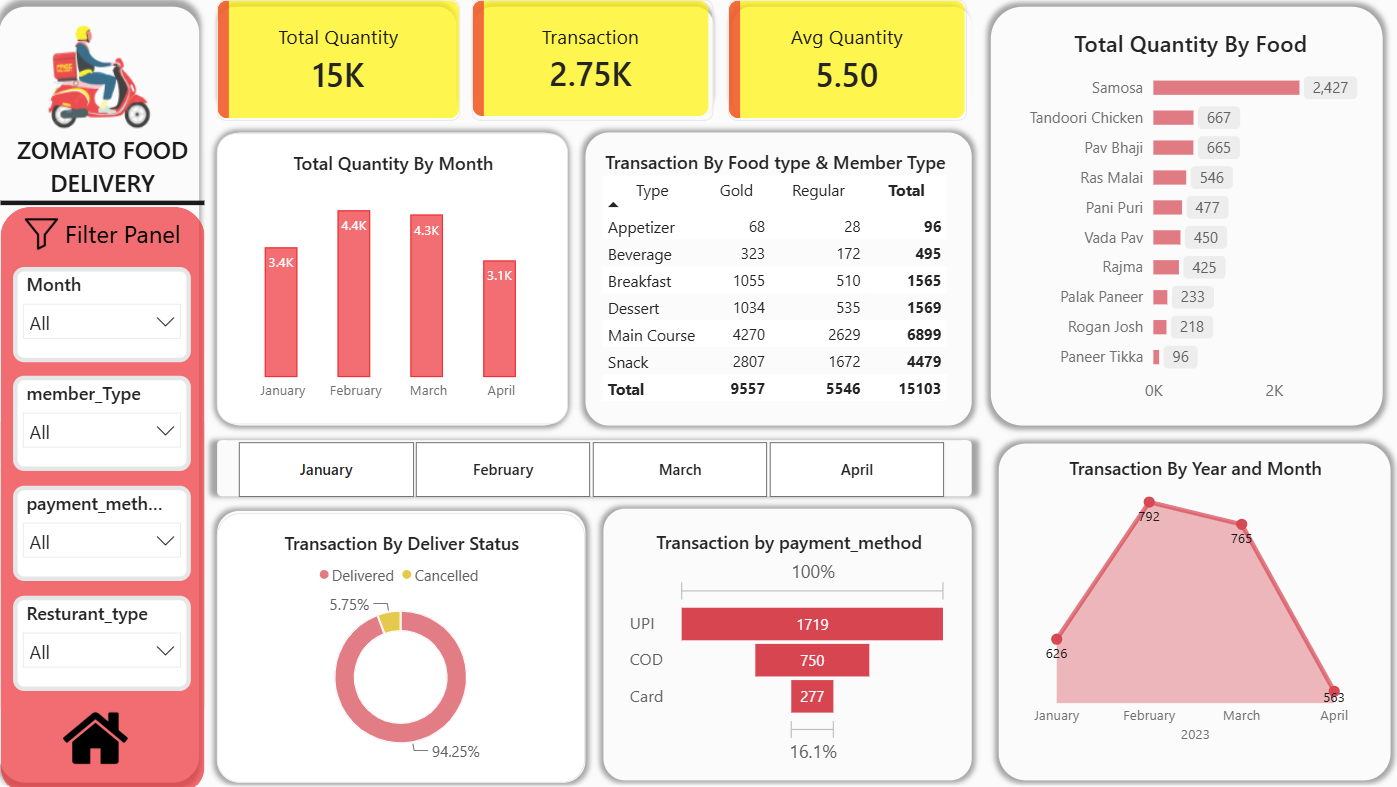

The page's visual inventory and layout, read from the dashboard file:
{"tool":"powerbi","page":{"name":"Page 1","canvas":[1280,720],"ordinal":0},"visuals":[{"type":"shape","title":"ZOMATO FOOD DELIVERY","box":[25.6,119.1,181.4,590],"z":0},{"type":"cardVisual","fields":{"Data":["Sales Data.Total Quantity"]},"box":[217.1,11.1,217.1,108],"z":1000},{"type":"cardVisual","fields":{"Data":["Sales Data.Transaction"]},"box":[444.2,11.1,214.8,108],"z":2000},{"type":"cardVisual","fields":{"Data":["Sales Data.Avg Quantity"]},"box":[672.4,11.1,212.6,108],"z":3000},{"type":"slicer","fields":{"Values":["Sales Data.orderDate.Variation.Date Hierarchy.Month"]},"box":[36.1,249.6,158.7,85.1],"z":4000},{"type":"slicer","fields":{"Values":["Customer Details.member_Type"]},"box":[36.1,346.3,158.7,85.1],"z":5000},{"type":"slicer","fields":{"Values":["Sales Data.payment_method"]},"box":[36.1,444.4,158.7,85.1],"z":6000},{"type":"slicer","fields":{"Values":["Resturant_Details.Resturant_type"]},"box":[36.1,542.5,158.7,85.1],"z":7000},{"type":"clusteredColumnChart","title":"Total Quantity By Month","fields":{"Category":["Sales Data.orderDate.Variation.Date Hierarchy.Month"],"Y":["Sales Data.Total Quantity"]},"box":[216.8,130.4,312.9,259.3],"z":8000},{"type":"donutChart","title":"Transaction By Deliver Status","fields":{"Y":["Sales Data.Transaction"],"Category":["Sales Data.deliver_status"]},"box":[217,468.9,328,240],"z":9000},{"type":"funnel","fields":{"Y":["Sales Data.Transaction"],"Category":["Sales Data.payment_method"]},"box":[568.4,468.9,316,239.5],"z":10000},{"type":"lineChart","title":"Transaction By Year and Month","fields":{"Y":["Sales Data.Transaction"],"Category":["Sales Data.orderDate.Variation.Date Hierarchy.Year","Sales Data.orderDate.Variation.Date Hierarchy.Month"]},"box":[915.7,403,345,295.6],"z":11000},{"type":"barChart","title":"Total Quantity By Food","fields":{"Category":["Food_Details.Food"],"Y":["Sales Data.Total Quantity"]},"box":[915.7,21.7,336.6,368],"z":12000},{"type":"pivotTable","title":"Transaction By Food type & Member Type","fields":{"Rows":["Food_Details.Type"],"Columns":["Customer Details.member_Type"],"Values":["Sales Data.Total Quantity"]},"box":[543.9,129.8,340.5,259.7],"z":13000},{"type":"slicer","fields":{"Values":["Sales Data.orderDate.Variation.Date Hierarchy.Month"]},"box":[216.4,402.5,668,53.4],"z":14000},{"type":"textbox","box":[43.3,204.9,141.4,30.3],"z":15000},{"type":"image","box":[13,204.9,95.2,30.3],"z":16000},{"type":"image","box":[63.5,640.6,90.9,57.7],"z":17000}]}

Visuals, with their boxes in screenshot pixels (x1, y1, x2, y2), scaled from the page's 1280x720 canvas onto the 1397x787 screenshot:
"ZOMATO FOOD DELIVERY" shape: 28 130 226 775
cardVisual - Sales Data.Total Quantity: 237 12 474 130
cardVisual - Sales Data.Transaction: 485 12 719 130
cardVisual - Sales Data.Avg Quantity: 734 12 966 130
slicer - Sales Data.orderDate.Variation.Date Hierarchy.Month: 39 273 213 366
slicer - Customer Details.member_Type: 39 379 213 472
slicer - Sales Data.payment_method: 39 486 213 579
slicer - Resturant_Details.Resturant_type: 39 593 213 686
"Total Quantity By Month" clusteredColumnChart: 237 143 578 426
"Transaction By Deliver Status" donutChart: 237 513 595 775
funnel - Sales Data.Transaction x Sales Data.payment_method: 620 513 965 774
"Transaction By Year and Month" lineChart: 999 441 1376 764
"Total Quantity By Food" barChart: 999 24 1367 426
"Transaction By Food type & Member Type" pivotTable: 594 142 965 426
slicer - Sales Data.orderDate.Variation.Date Hierarchy.Month: 236 440 965 498
textbox: 47 224 202 257
image: 14 224 118 257
image: 69 700 169 763
